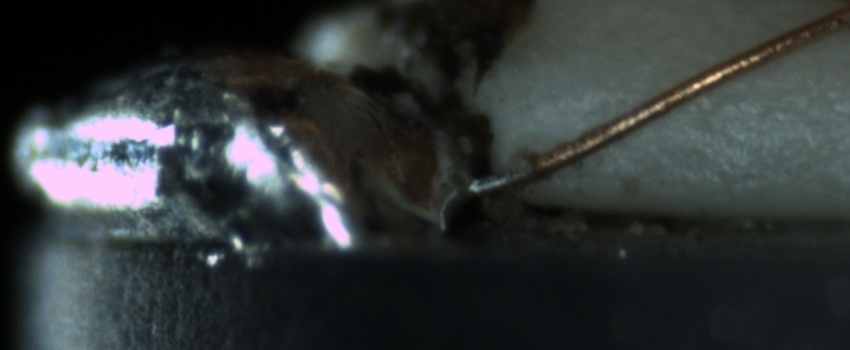CL: (808, 0, 848, 33)
DL: (549, 68, 833, 132)
TS: (466, 164, 531, 194)
